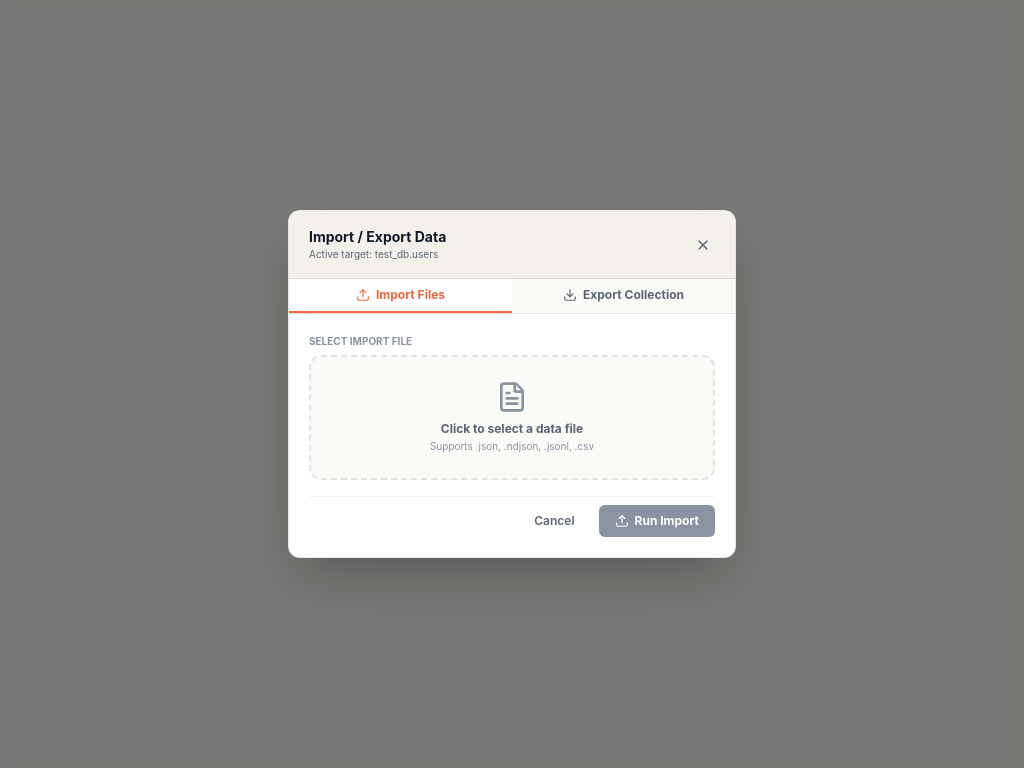
Test: ImportExportModal › switching to Export tab clears any visible error message
Submit the form, box [309, 334, 715, 537]
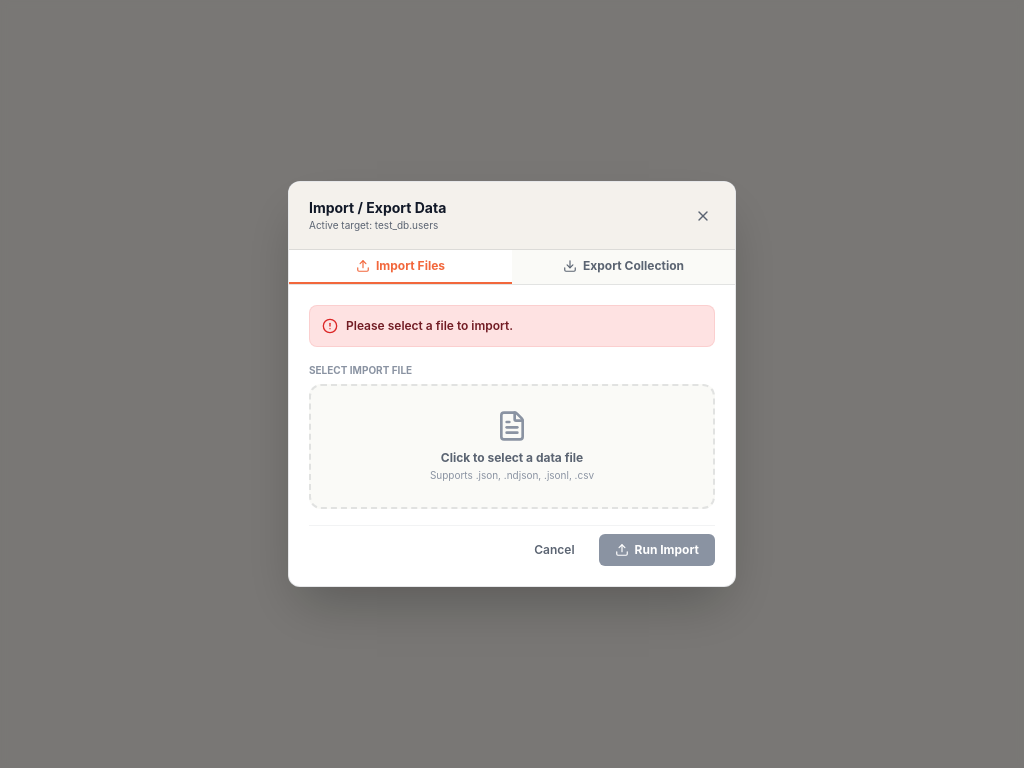
Now the text "Please select a file to import." is shown, box [346, 318, 513, 334]
Click the button "Export Collection". click: [624, 267]
box: [512, 250, 735, 284]
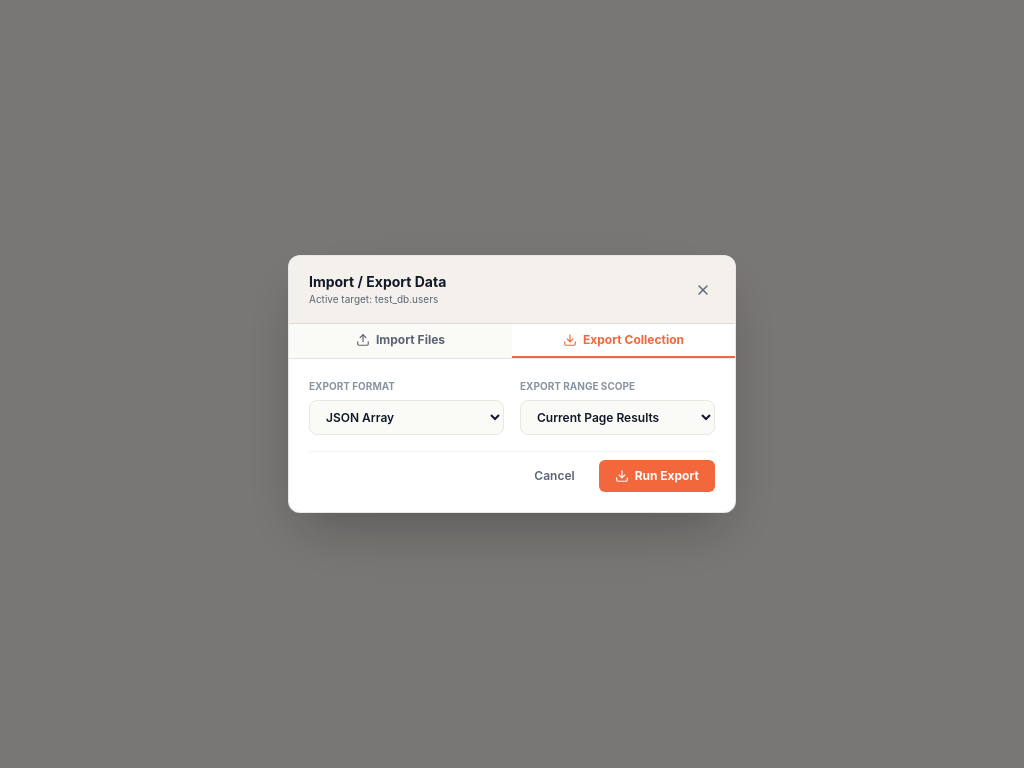
Now the text "Please select a file to import." is gone
